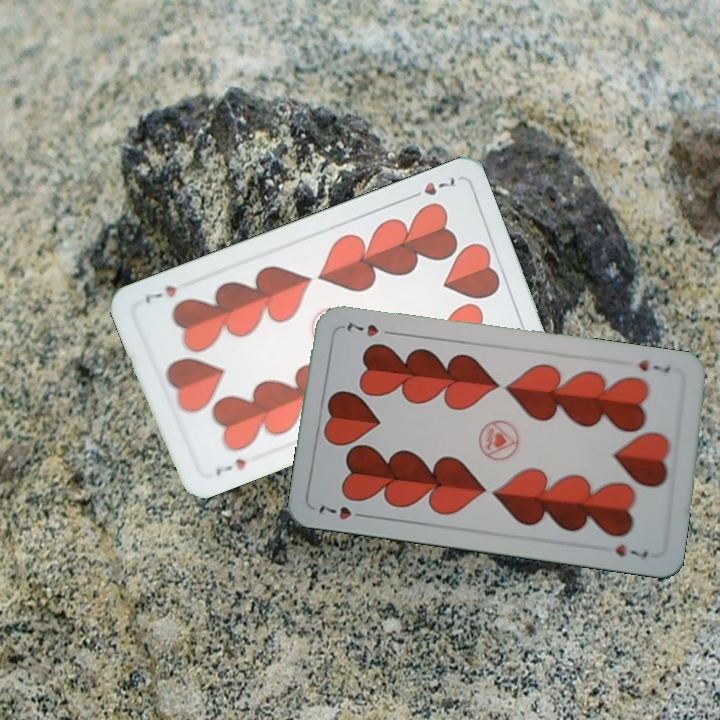H7: (403, 173, 458, 202), (314, 500, 371, 523), (211, 454, 249, 478), (634, 356, 673, 376)
